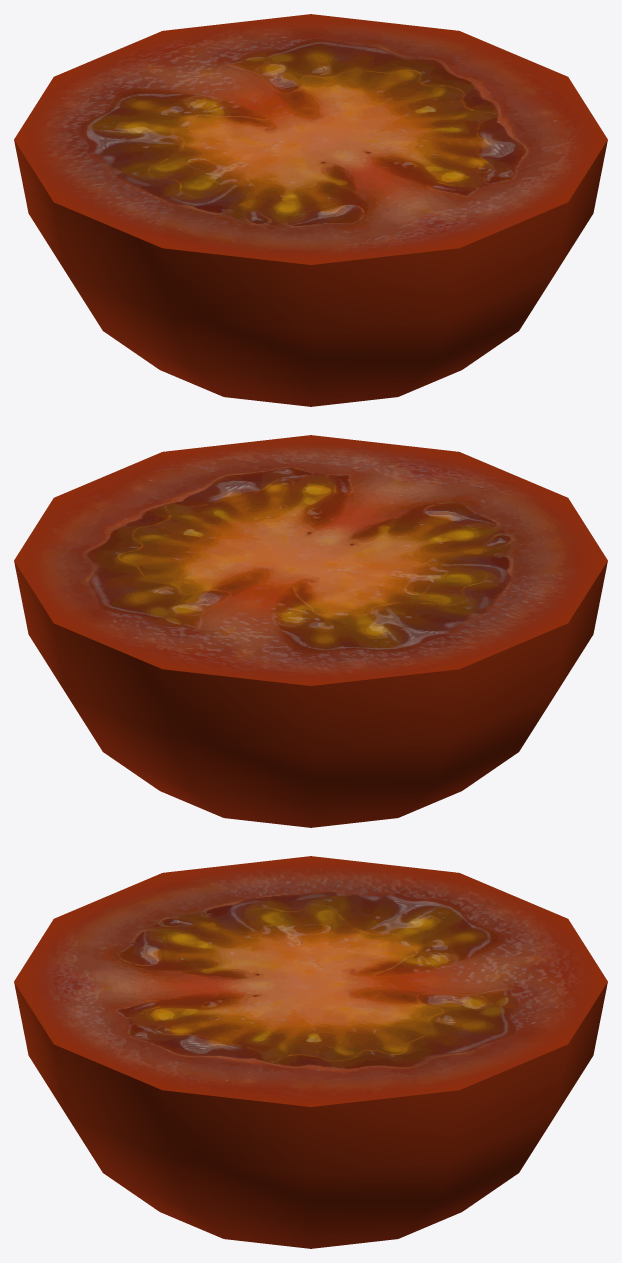
Rendered from Tomato_Half_Bottom.fbx.
3 views of the same model, one above another, from view 1: azimuth 30°, elevation 25°; view 2: azimuth 150°, elevation 25°; view 3: azimuth 270°, elevation 25° (orthographic).
Visible parts, largest first — view 1: Tomato_Half_Bottom; view 2: Tomato_Half_Bottom; view 3: Tomato_Half_Bottom.
Part boxes in pixels (x1,y1,x2,y2): Tomato_Half_Bottom: [14, 14, 607, 406]; Tomato_Half_Bottom: [14, 435, 607, 827]; Tomato_Half_Bottom: [14, 856, 607, 1248].
Bounding box in the file's own units: 1.42 × 0.6067 × 1.42.
